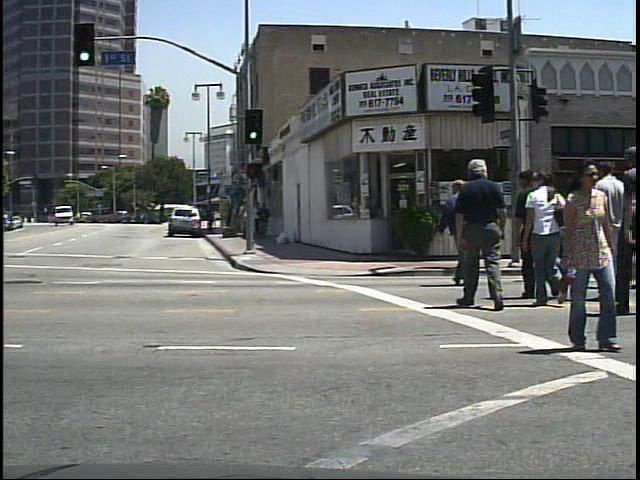person: (551, 154, 628, 354), (453, 150, 514, 317), (521, 164, 574, 313)
